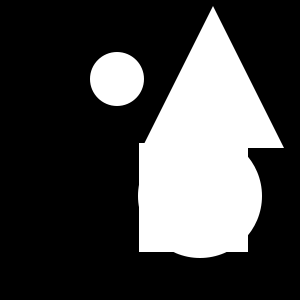circle: (139, 143, 248, 252)
rectangle: (138, 134, 262, 258), (90, 52, 144, 106)
triangle: (142, 6, 284, 148), (236, 114, 243, 121)
